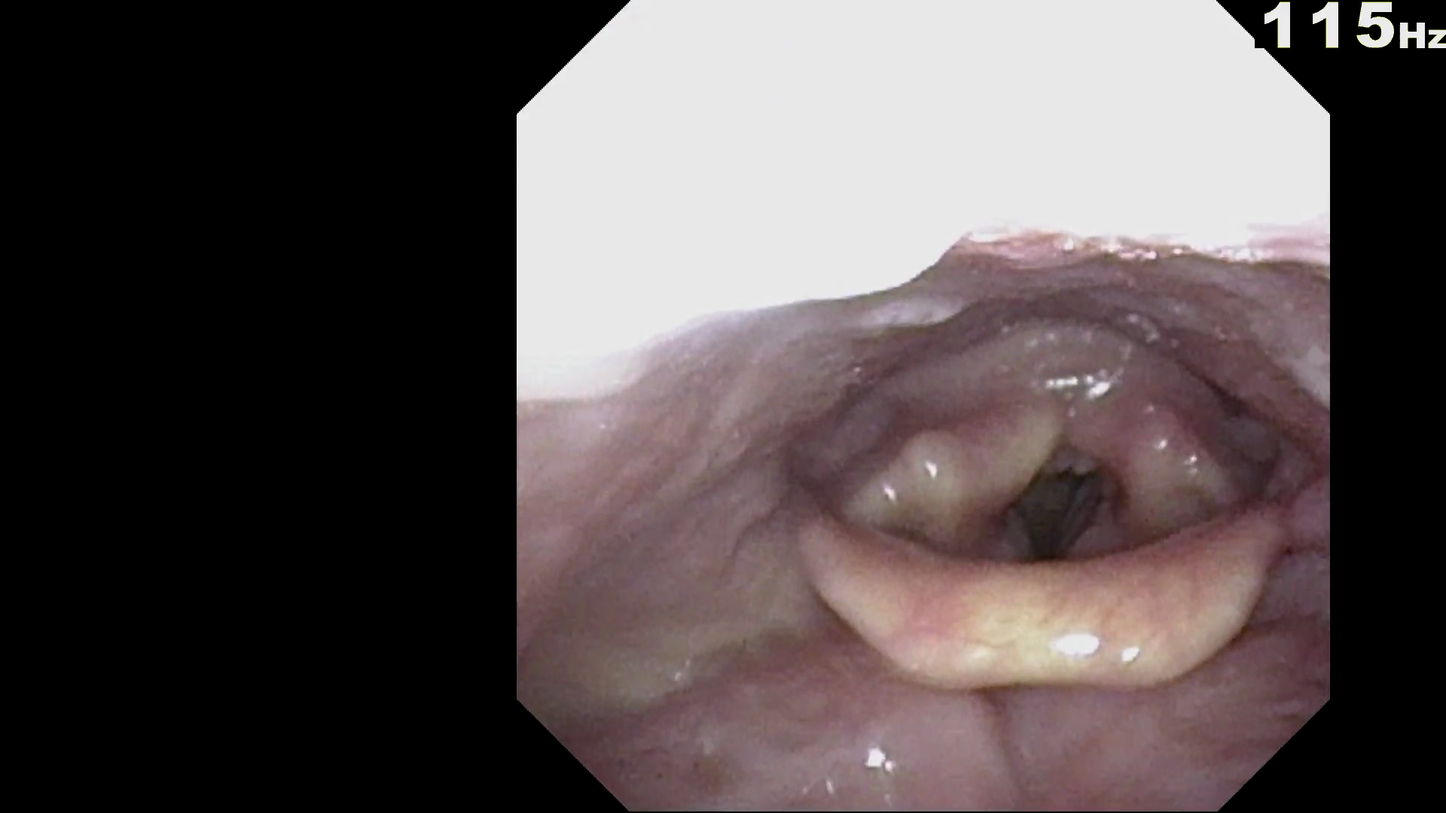epiglottis: (779, 468, 1304, 707)
trachea: (979, 413, 1126, 567)
